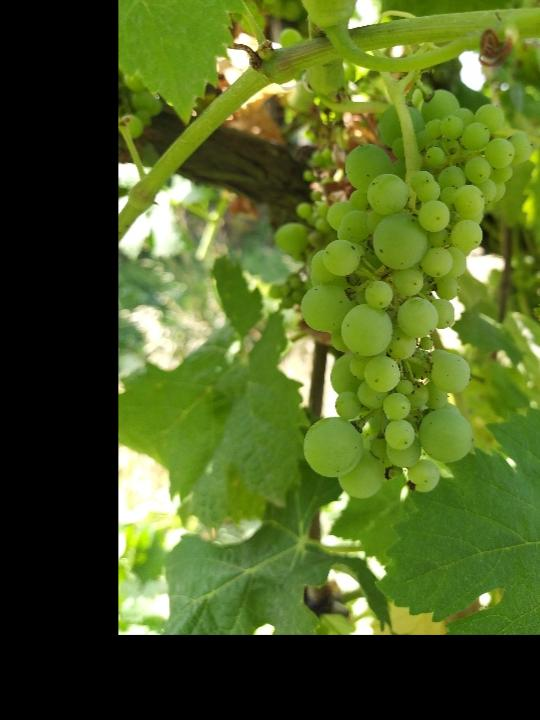grape: (295, 88, 536, 502)
